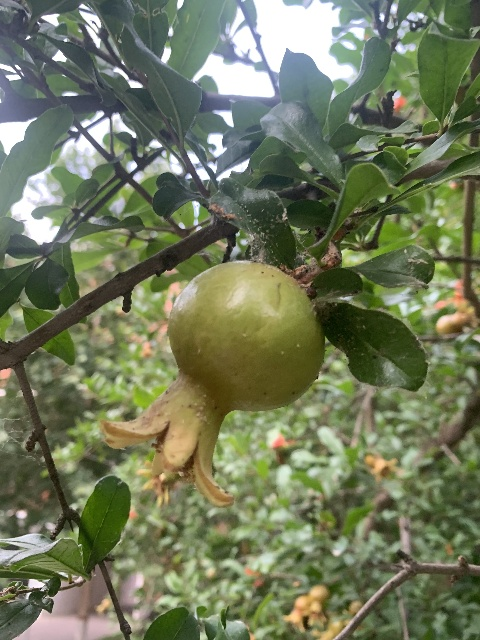early-fruit: (435, 304, 477, 334), (301, 584, 329, 624), (281, 596, 307, 633), (364, 454, 399, 481), (310, 621, 341, 640)
mid-growth: (98, 260, 326, 512)
